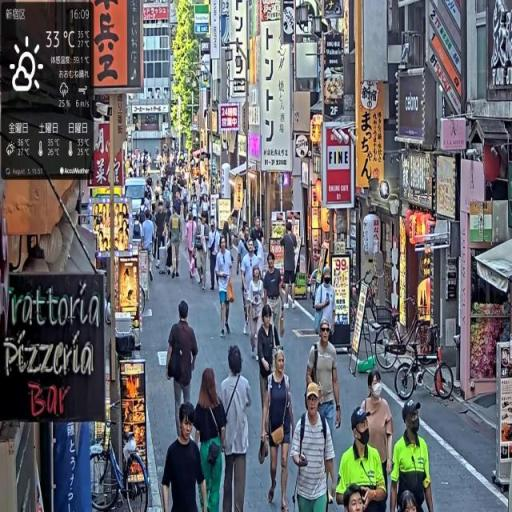person: (291, 380, 338, 512), (220, 343, 255, 512), (261, 348, 296, 512), (336, 405, 389, 512), (389, 398, 435, 512), (193, 368, 229, 512), (161, 402, 208, 512), (359, 369, 395, 512), (167, 299, 200, 435), (307, 320, 342, 435), (264, 253, 287, 341), (247, 264, 267, 363), (217, 238, 236, 337), (314, 265, 337, 342), (281, 220, 300, 311), (169, 202, 184, 281), (141, 210, 157, 284), (195, 214, 210, 291), (208, 217, 223, 293), (186, 211, 198, 284)
